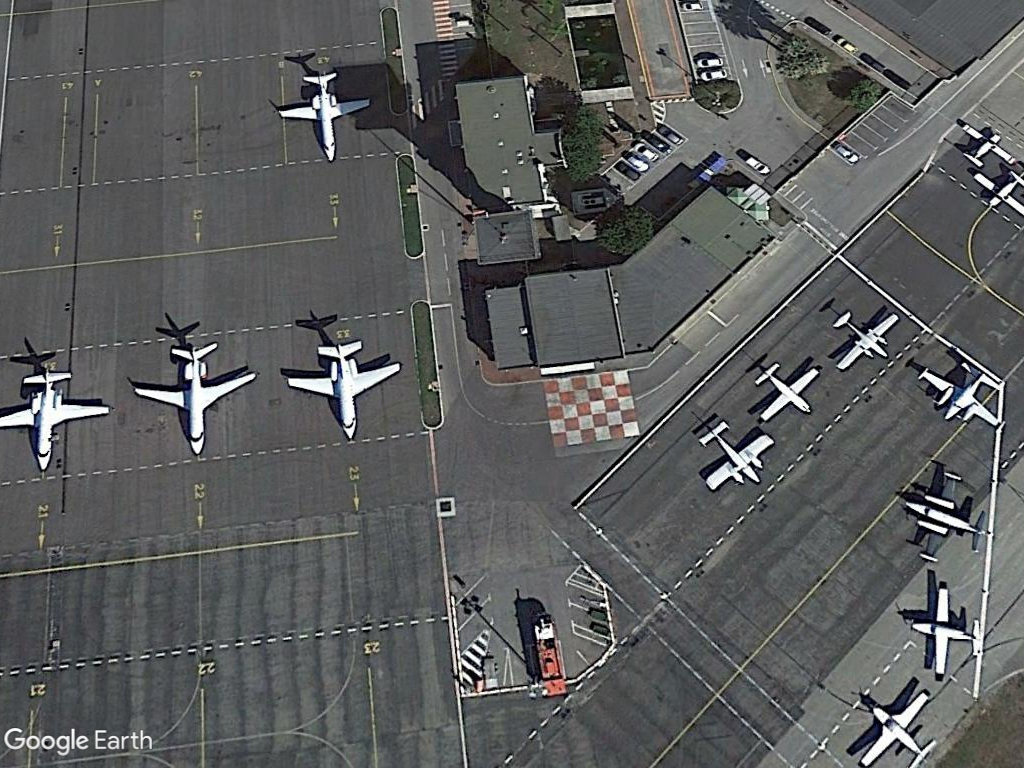car: (694, 55, 727, 68), (698, 69, 731, 82)
chartered: (132, 341, 256, 458), (283, 339, 402, 441), (0, 365, 111, 474), (276, 67, 371, 162)
trainer: (902, 466, 990, 567), (902, 580, 984, 683), (917, 356, 1007, 434), (854, 686, 936, 768), (693, 417, 776, 492), (825, 308, 900, 374), (746, 363, 822, 425), (957, 119, 1019, 171), (966, 171, 1024, 219)
